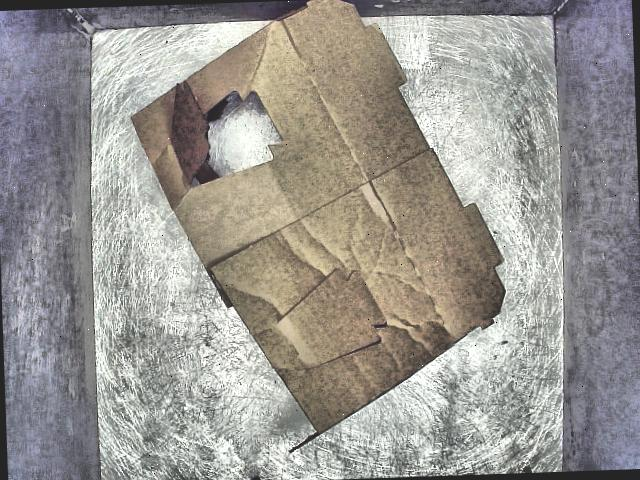Paper: (121, 0, 516, 467)
